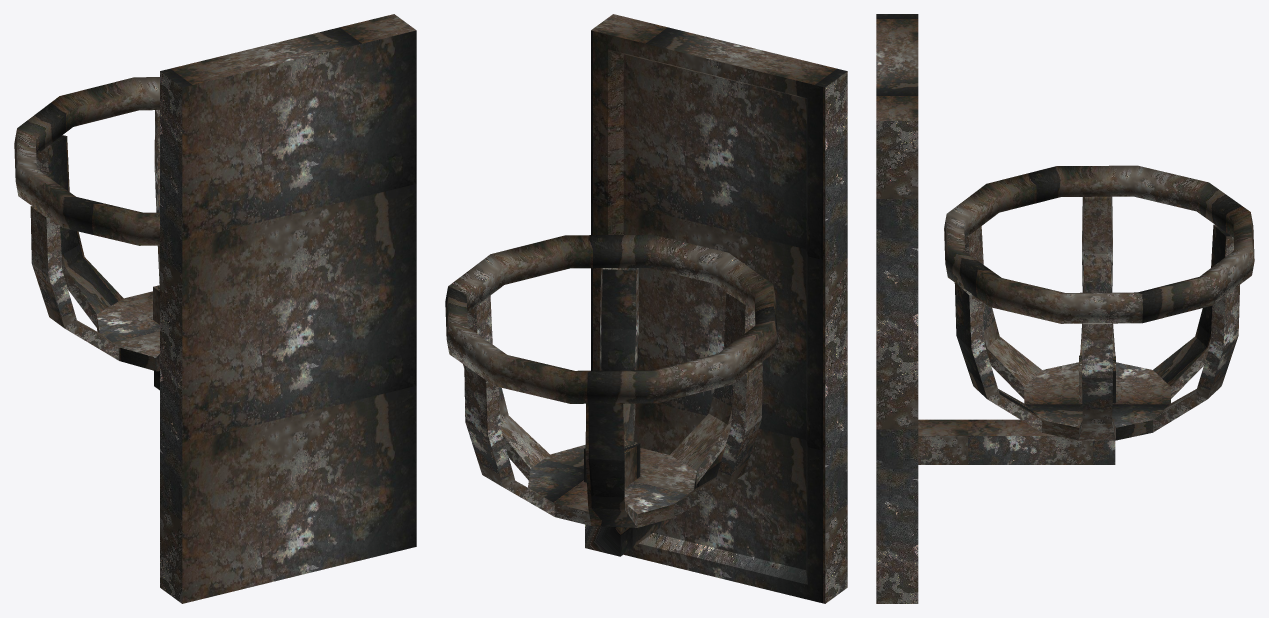
Rendered from wall_light.FBX.
3 views of the same model, side by side, from view 1: azimuth 30°, elevation 25°; view 2: azimuth 150°, elevation 25°; view 3: azimuth 270°, elevation 25° (orthographic). The views are drawn at different scales.
Visible parts, largest first — view 1: Box001; view 2: Box001; view 3: Box001.
Boxes of the visible parts, x1,y1,x2,y2 form: Box001: [14, 14, 416, 603]; Box001: [445, 14, 847, 603]; Box001: [876, 14, 1254, 603].
Bounding box in the file's own units: 57.14 × 98.06 × 69.59.
Materials: 1 (1 with a texture image).
